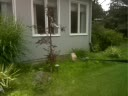window: (0, 0, 60, 96), (68, 62, 99, 96), (62, 26, 90, 40), (121, 72, 128, 87), (117, 45, 121, 51)
